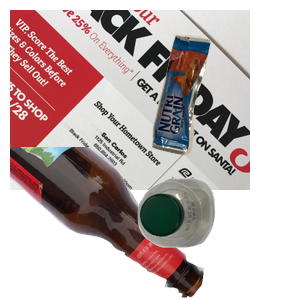glass: (10, 147, 207, 300)
paper: (10, 10, 250, 190)
plastic: (135, 176, 300, 300)
trash: (149, 31, 300, 179)
